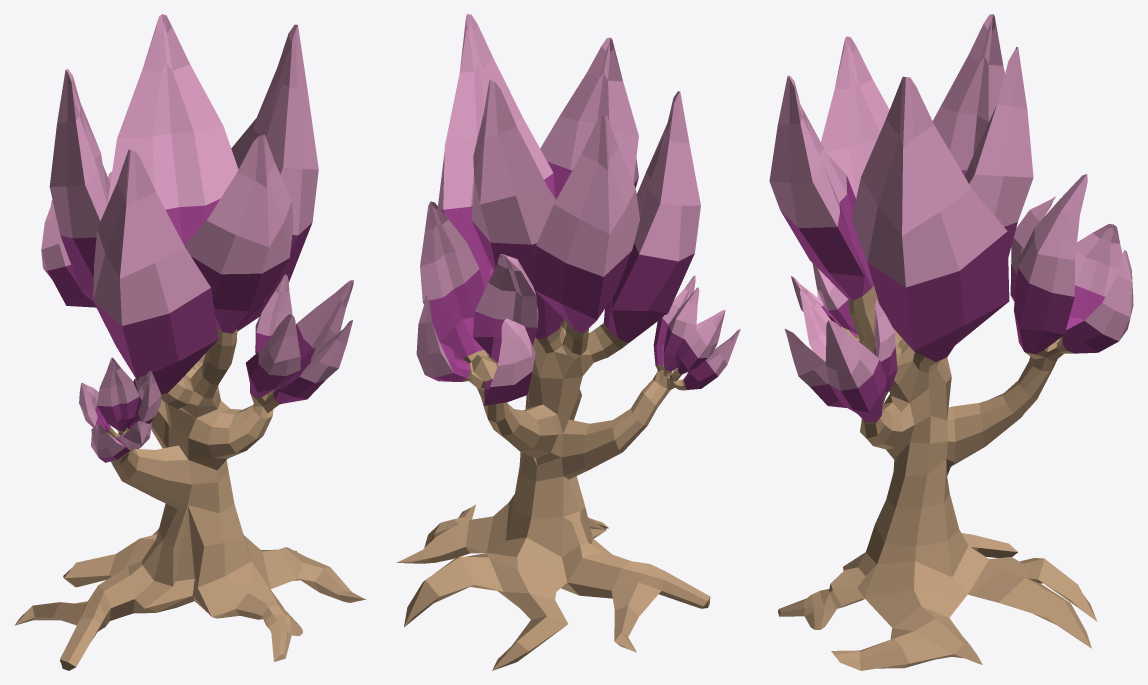
Rendered from Tree_14_Var_03.fbx.
The picture shows the model from 3 angles, left to right: view 1: azimuth 30°, elevation 25°; view 2: azimuth 150°, elevation 25°; view 3: azimuth 270°, elevation 25°; orthographic projection. The views are drawn at different scales.
Parts seen in each view (by area): view 1: Tree_14_Var_03; view 2: Tree_14_Var_03; view 3: Tree_14_Var_03.
Part boxes in pixels (box(x1,y1,x2,y2)): Tree_14_Var_03: box(14, 14, 365, 670); Tree_14_Var_03: box(396, 14, 740, 670); Tree_14_Var_03: box(769, 14, 1133, 670).
Size of the model in its own units: 3.86 by 7.07 by 3.55.
